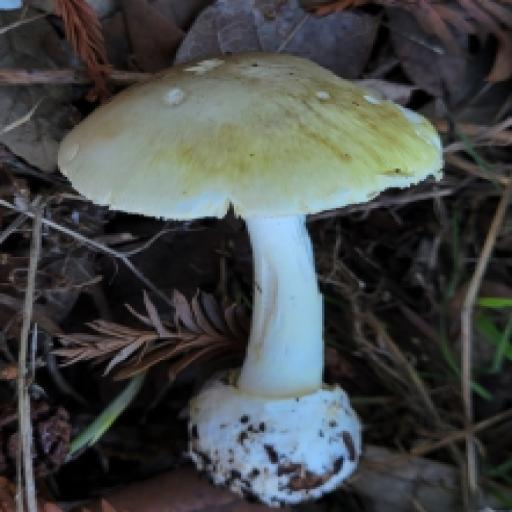mushroom: (0, 0, 467, 512)
